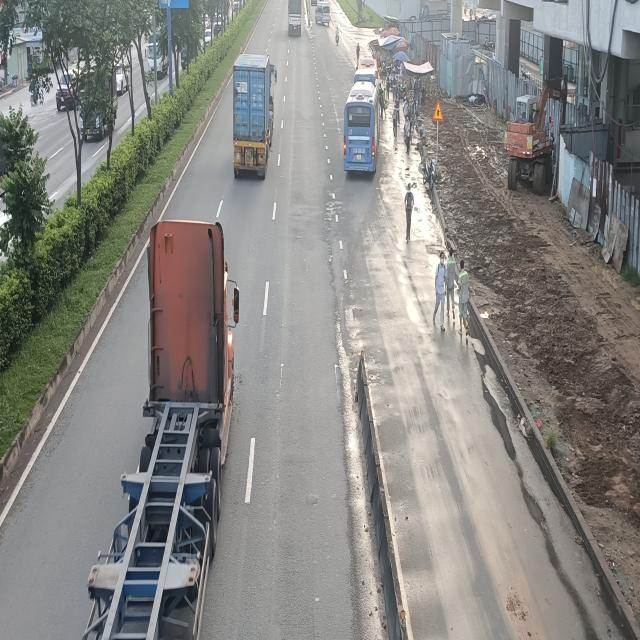coach: (341, 82, 377, 170)
container: (76, 221, 236, 639), (229, 54, 274, 180)
